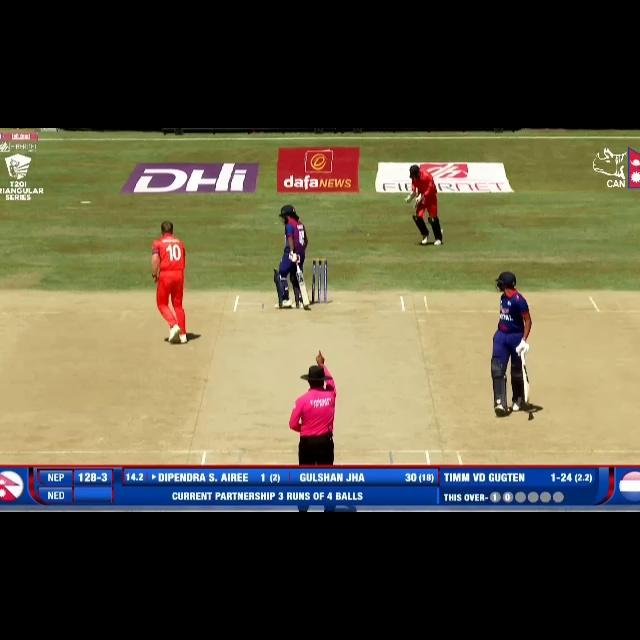umpire: (275, 344, 349, 508)
